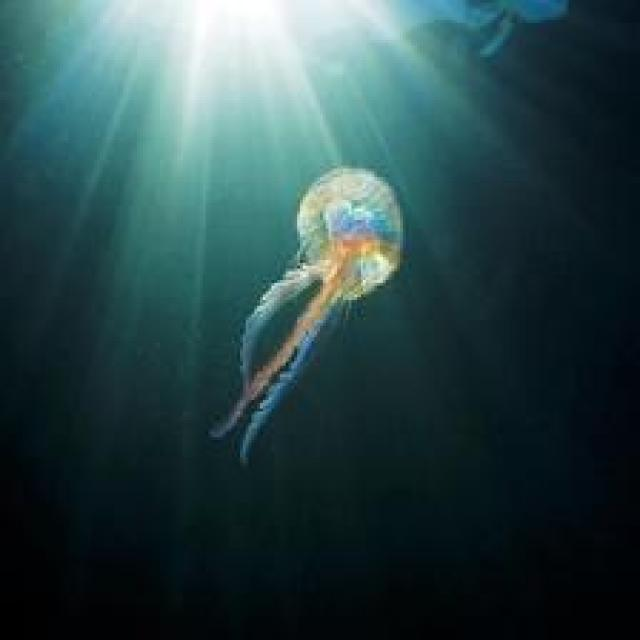Box-jellyfish: (206, 163, 403, 466)
